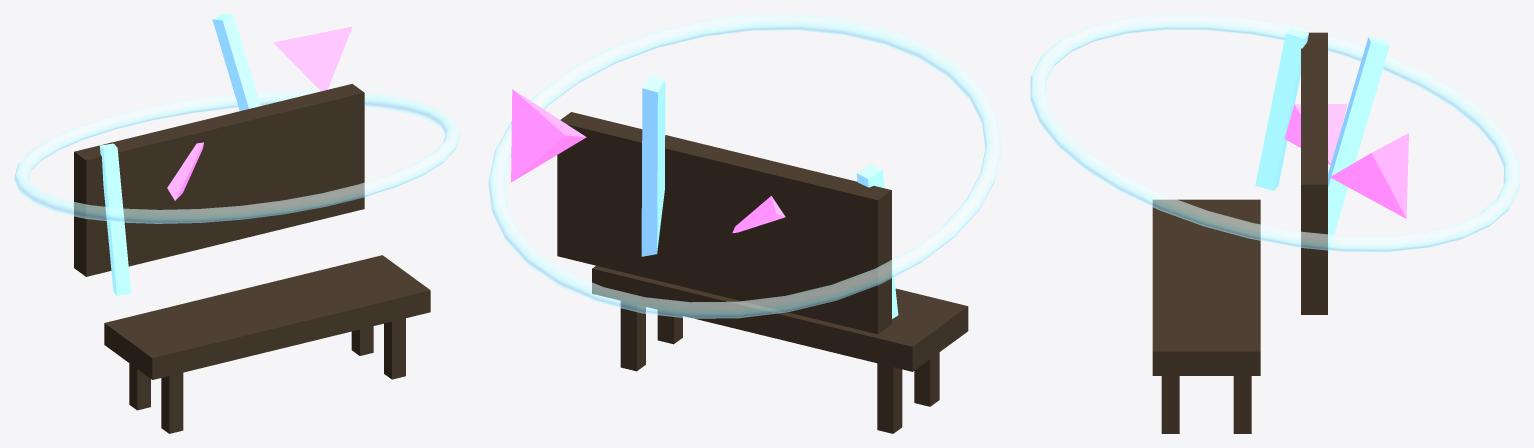
The model's file is bench-growth.high.glb.
The picture shows the model from 3 angles, left to right: view 1: azimuth 30°, elevation 25°; view 2: azimuth 150°, elevation 25°; view 3: azimuth 270°, elevation 25°; orthographic projection. The views are drawn at different scales.
Visible parts, largest first — view 1: bench-growth-body, growth-halo, growth-0, growth-1; view 2: bench-growth-body, growth-halo, growth-0, growth-1; view 3: bench-growth-body, growth-halo, growth-0, growth-1.
Boxes of the visible parts, <box> form: bench-growth-body: <box>74,84,430,433</box>; growth-halo: <box>14,90,459,223</box>; growth-0: <box>99,14,260,295</box>; growth-1: <box>167,26,352,200</box>; bench-growth-body: <box>557,112,968,433</box>; growth-halo: <box>488,14,1001,318</box>; growth-0: <box>641,75,898,318</box>; growth-1: <box>511,89,785,233</box>; bench-growth-body: <box>1152,32,1327,433</box>; growth-halo: <box>1030,14,1519,252</box>; growth-0: <box>1255,27,1389,254</box>; growth-1: <box>1284,104,1408,218</box>.
Bounding box in the file's own units: 2.78 × 2.14 × 2.72.
